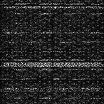lte: (1, 61, 104, 67), (1, 5, 104, 8), (1, 2, 104, 5)
